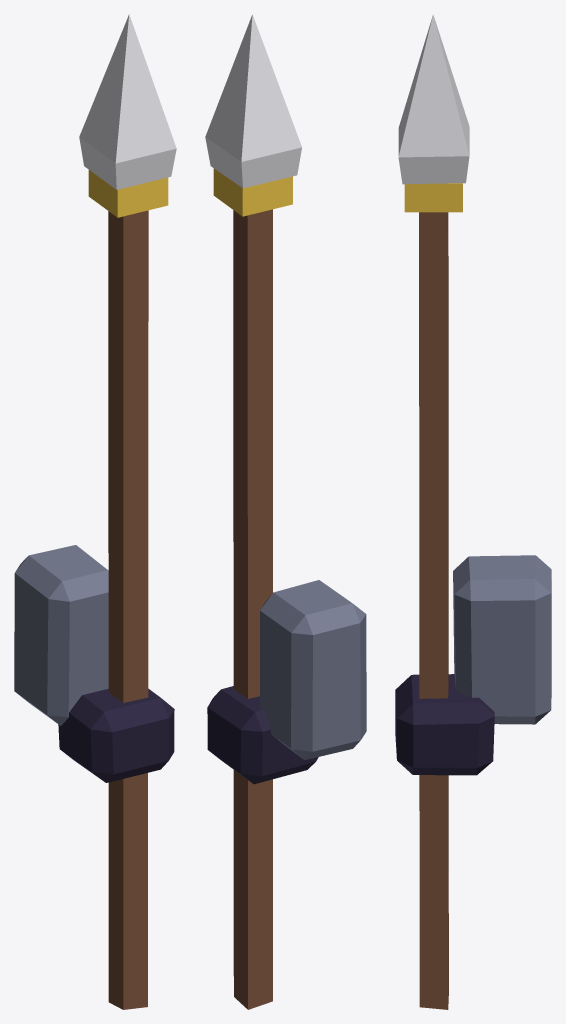
Rendered from guard_arm_spear.fbx.
The picture shows the model from 3 angles, left to right: view 1: azimuth 30°, elevation 25°; view 2: azimuth 210°, elevation 25°; view 3: azimuth 270°, elevation 25°; orthographic projection.
Visible parts, largest first — view 1: guard_arm_spear; view 2: guard_arm_spear; view 3: guard_arm_spear.
Part boxes in pixels (<box>): guard_arm_spear: <box>14,14,176,1009</box>; guard_arm_spear: <box>205,14,366,1009</box>; guard_arm_spear: <box>395,14,551,1009</box>.
Bounding box in the file's own units: 0.2152 × 2.06 × 0.2956.
